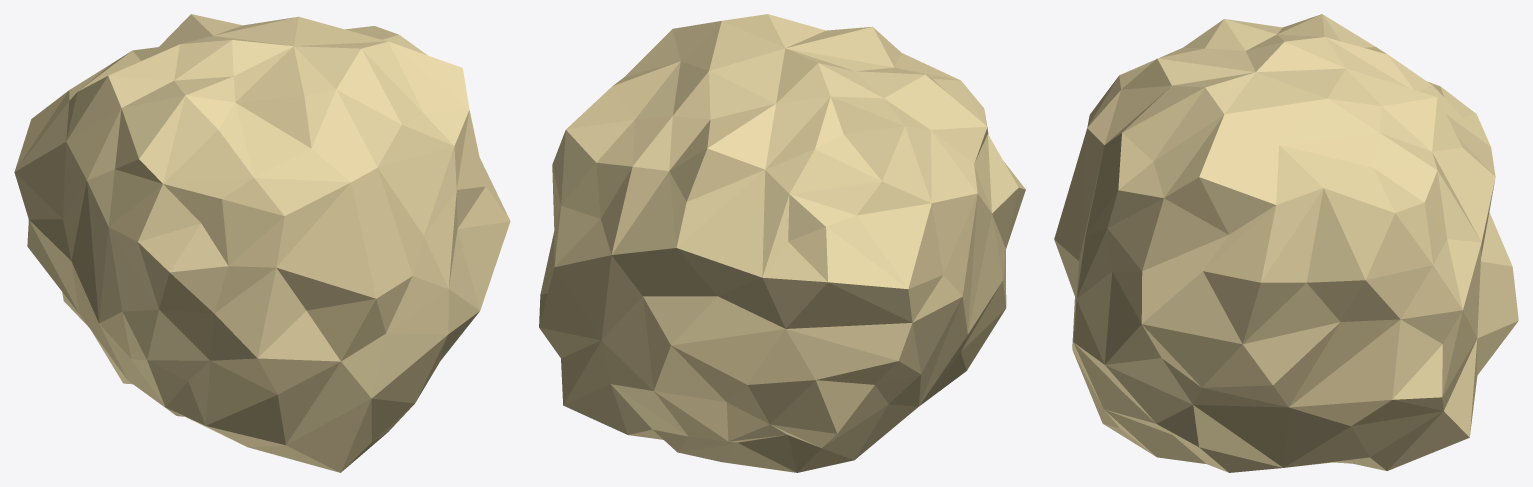
Rendered from Asteroid (113).fbx.
3 renders of one model, left to right at view 1: azimuth 30°, elevation 25°; view 2: azimuth 150°, elevation 25°; view 3: azimuth 270°, elevation 25°, orthographic.
Parts seen in each view (by area): view 1: Asteroid223; view 2: Asteroid223; view 3: Asteroid223.
Boxes of the visible parts, x1,y1,x2,y2 form: Asteroid223: [14, 14, 510, 472]; Asteroid223: [539, 14, 1025, 472]; Asteroid223: [1054, 14, 1518, 472].
Size of the model in its own units: 439 by 434 by 464.
